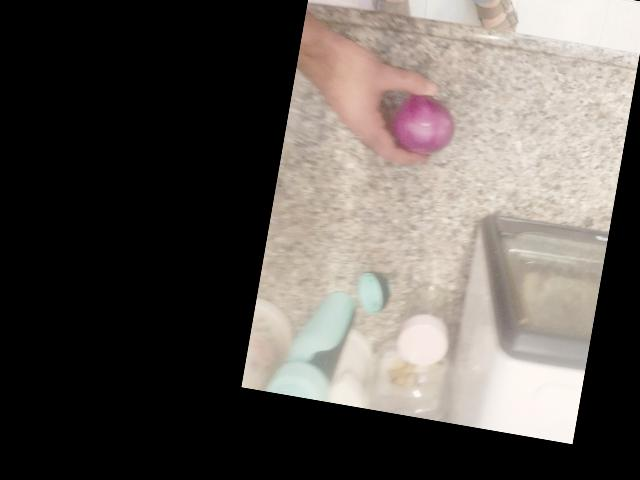onion: (366, 64, 460, 157)
